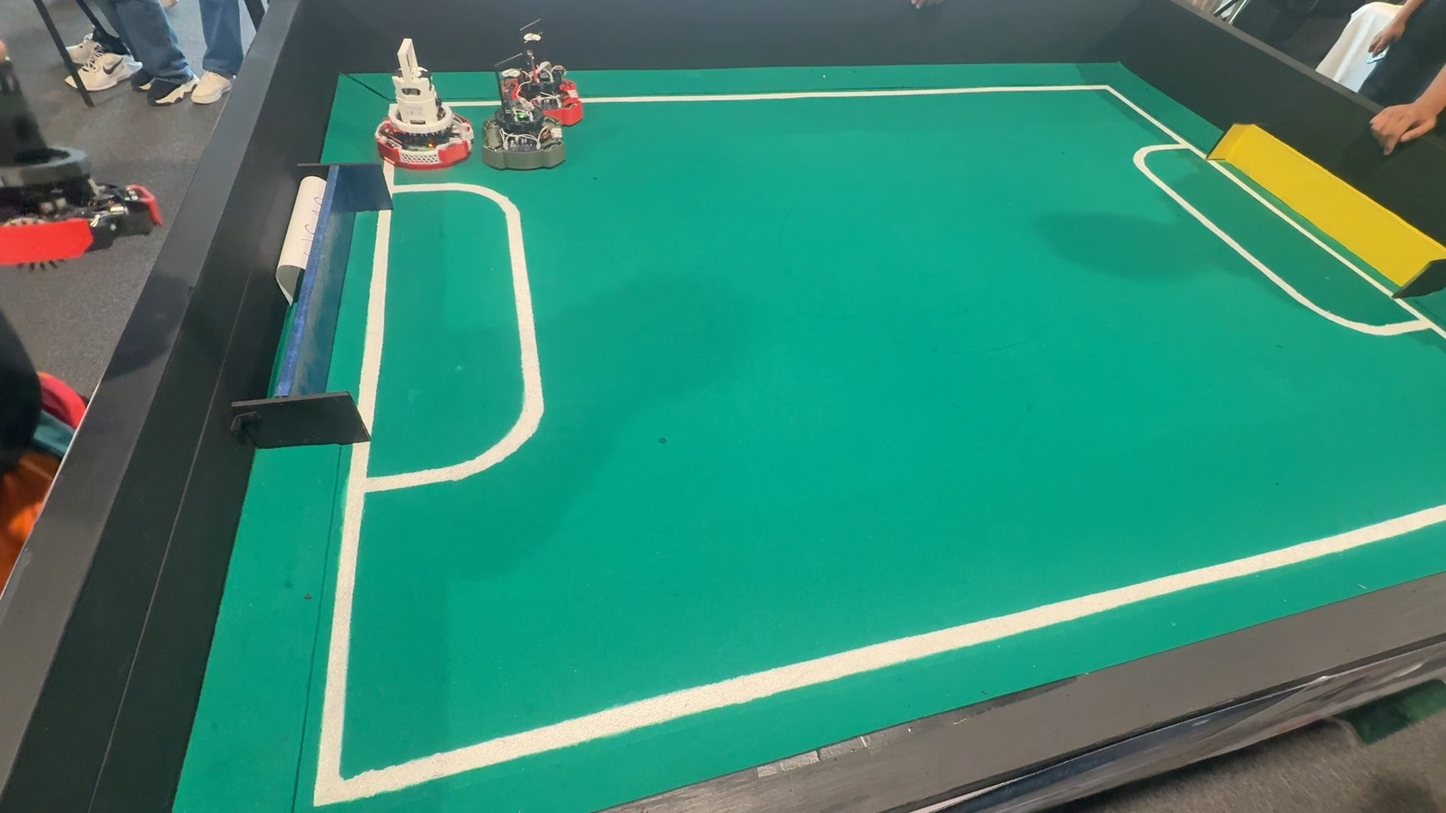Robot: (0, 105, 159, 272), (479, 18, 585, 175), (371, 41, 478, 178)
